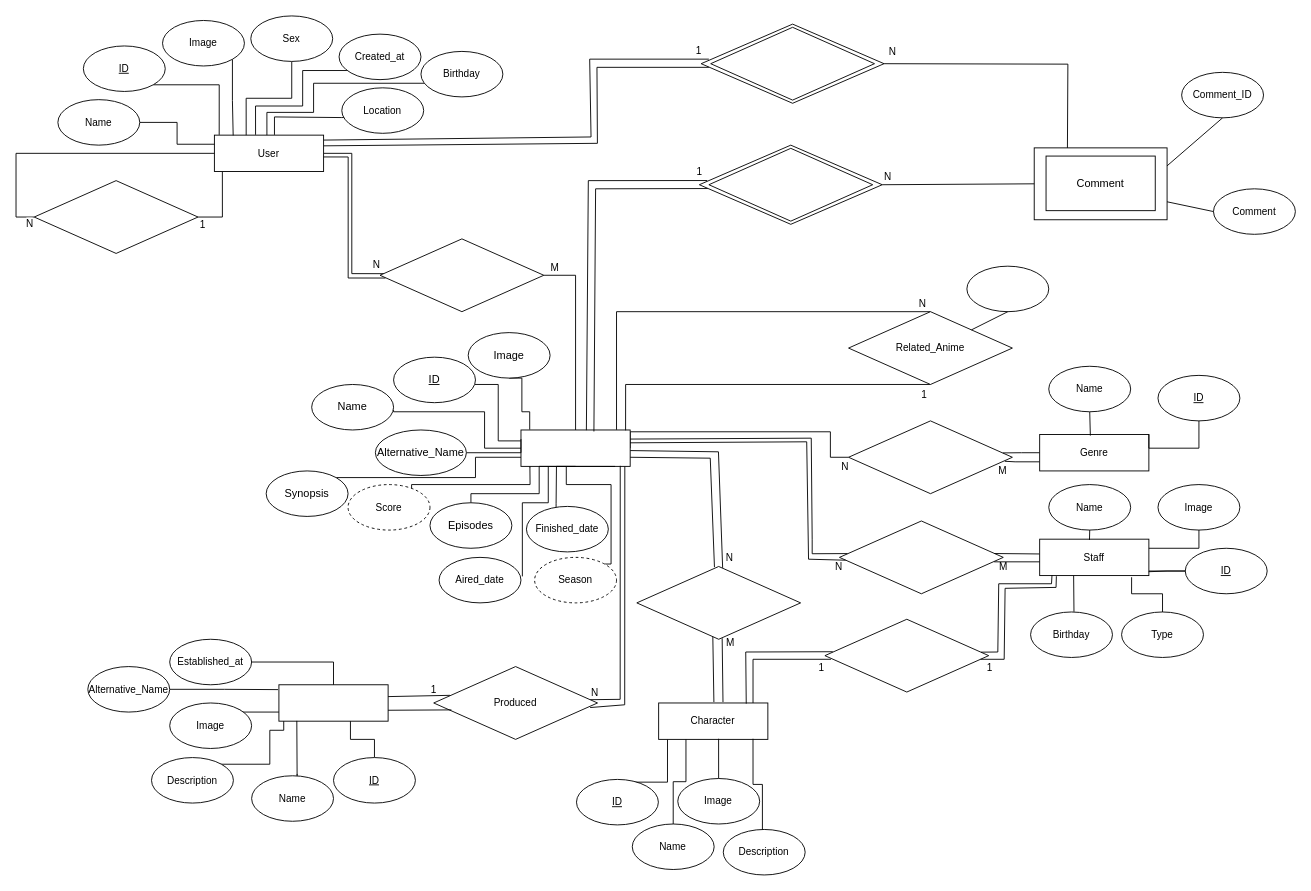
The diagram is 1311 pixels wide and 891 high, and some of its shapes have lost their labels. The centre of each missing label's shape, as x and y in pixels:
Anime: the point at 575,447
Appears_in: the point at 718,602
Commented: the point at 792,63
Has_Comments: the point at 790,184
Has_Watched: the point at 461,275
Is_Friend: the point at 115,216
Is_Genre: the point at 930,457
Relation: the point at 1007,288
Studio: the point at 333,702
Voice_acted_by: the point at 906,655
Worked_On: the point at 921,557
